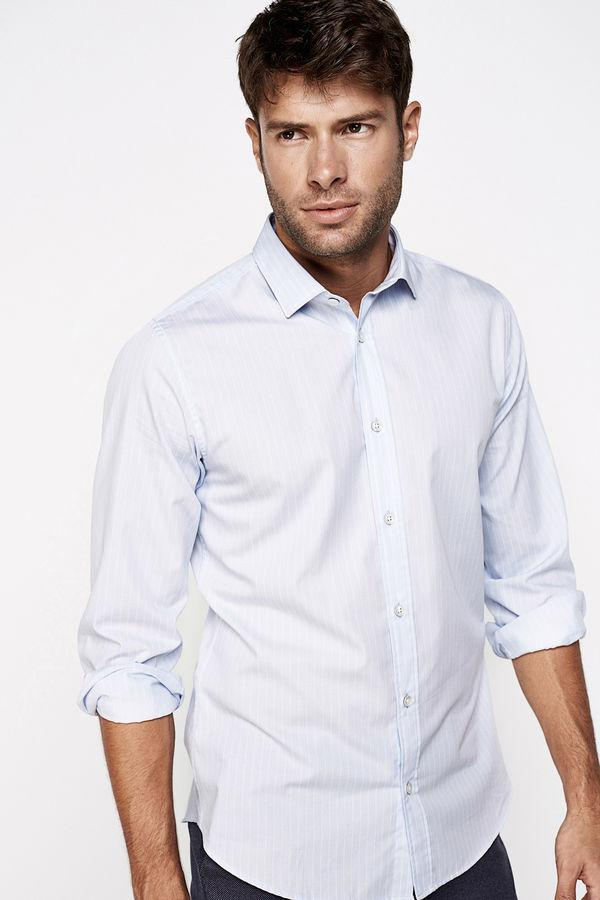teeshirt: (77, 211, 599, 900)
